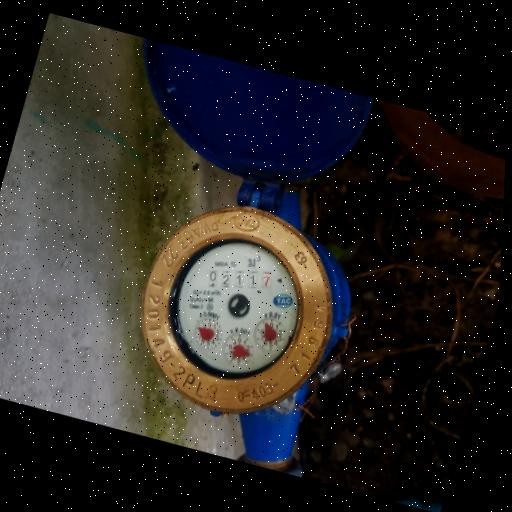0: (203, 268, 221, 290)
1: (243, 268, 262, 291), (230, 269, 247, 291)
2: (217, 269, 234, 290)
7: (257, 269, 275, 290)
border_water_meter_number: (202, 256, 275, 304)
